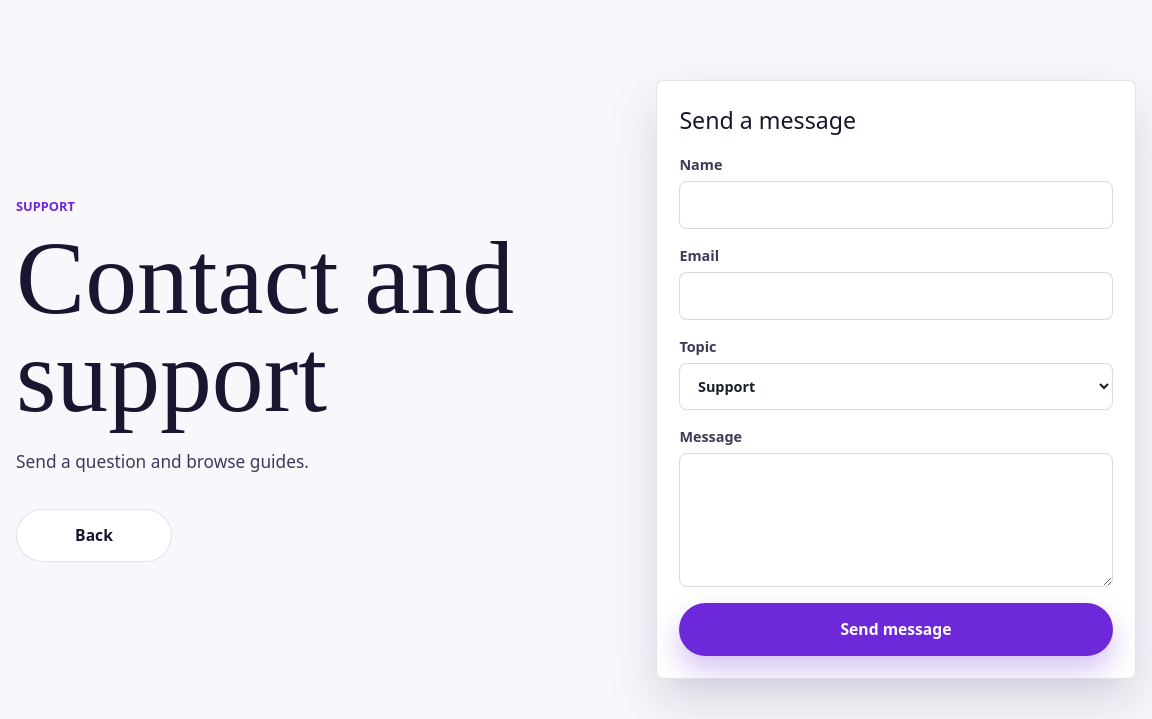
Test: ContactPage › shows a confirmation after the form is submitted
Type "Ada" into the field labelled "Name".
click(896, 205); type("Ada")  # box [679,181,1113,229]
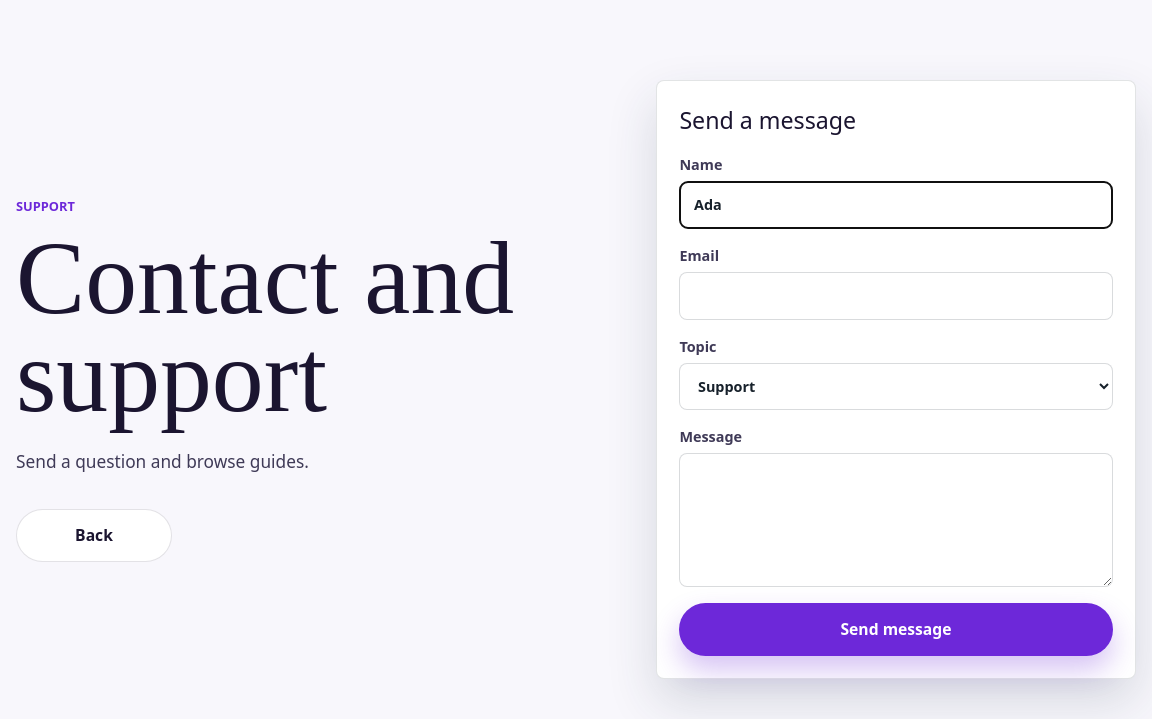
Type "ada@example.com" into the field labelled "Email".
click(896, 296); type("ada@example.com")  # box [679,272,1113,320]
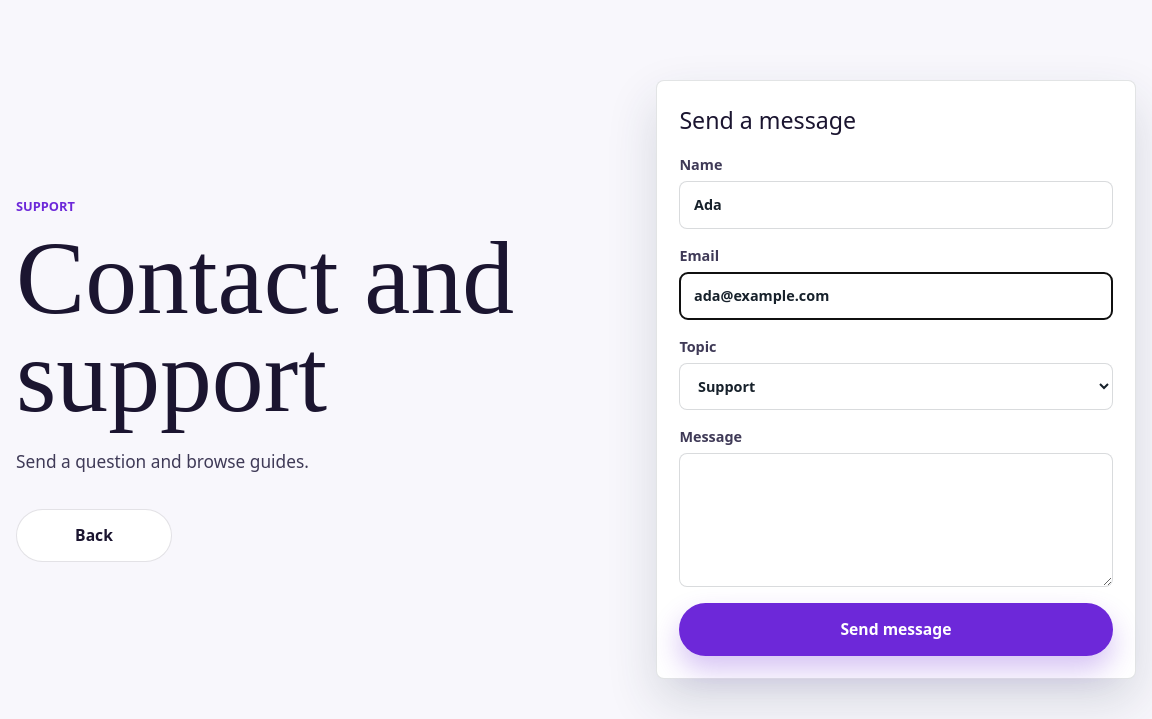
Type "I need help with exports." into the text box labelled "Message".
click(896, 520); type("I need help with exports.")  # box [679,453,1113,587]
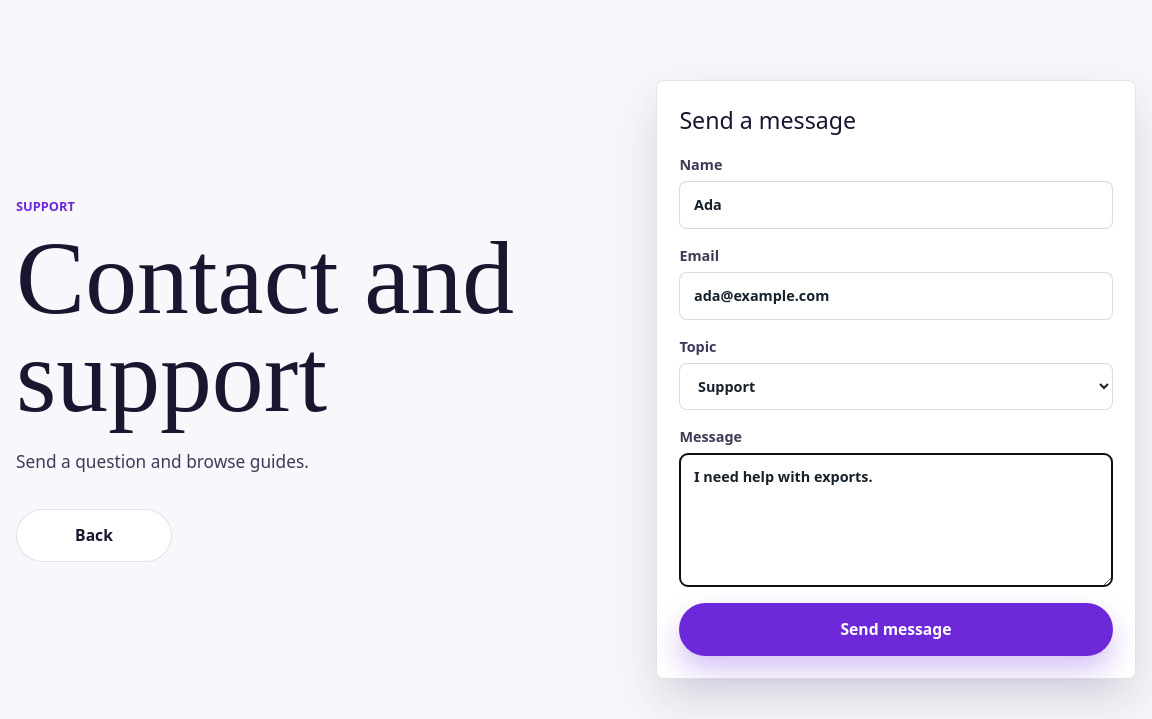
Click the button "Send message".
click(896, 629)  # box [679,603,1113,656]
(page scrolled)
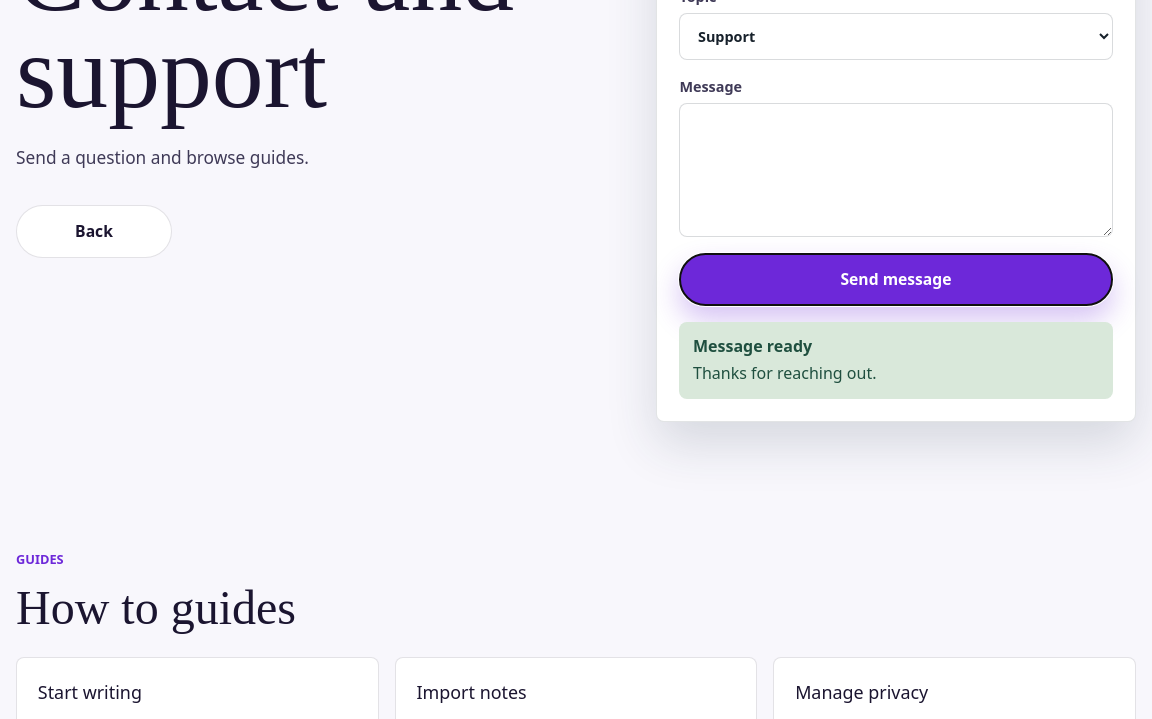
Expected: the element showing "Message ready Thanks for reaching out." is shown, [679,322,1113,399]
